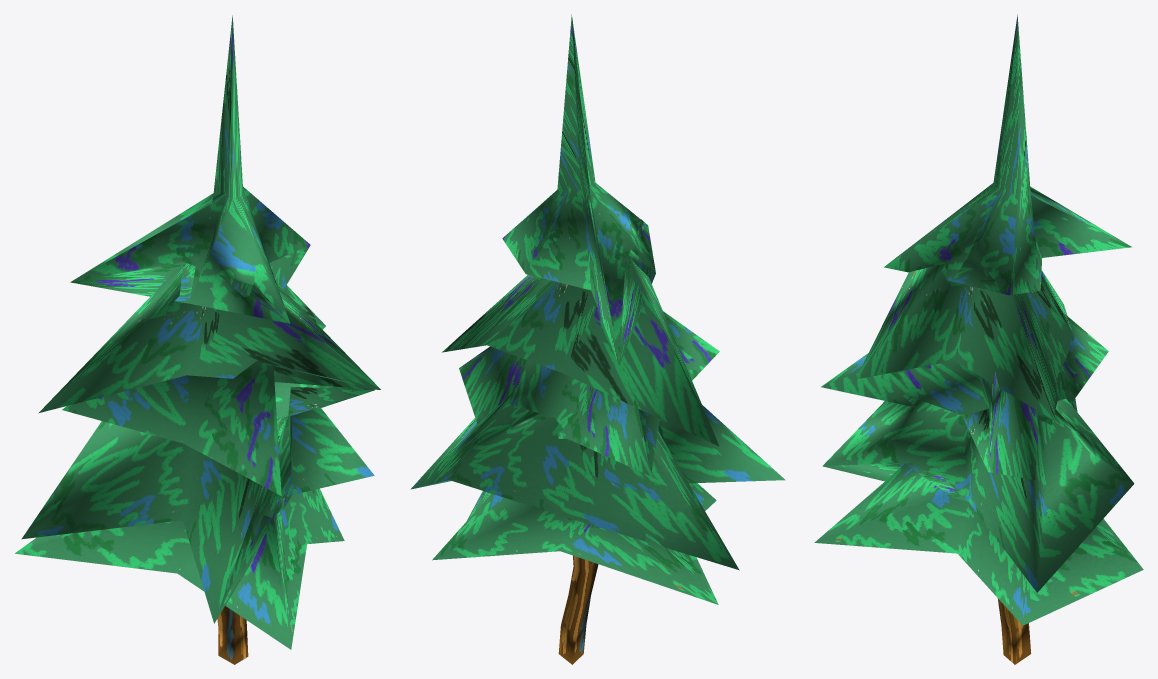
Rendered from tree.obj.
3 views of the same model, side by side, from view 1: azimuth 30°, elevation 25°; view 2: azimuth 150°, elevation 25°; view 3: azimuth 270°, elevation 25° (orthographic).
Parts seen in each view (by area): view 1: feuillageSapin, troncSapin; view 2: feuillageSapin, troncSapin; view 3: feuillageSapin, troncSapin.
Part boxes in pixels (left/top/right/bottom): feuillageSapin: left=15, top=15, right=380, bottom=649; troncSapin: left=217, top=606, right=248, bottom=664; feuillageSapin: left=410, top=14, right=785, bottom=604; troncSapin: left=558, top=555, right=598, bottom=664; feuillageSapin: left=814, top=14, right=1143, bottom=625; troncSapin: left=997, top=598, right=1031, bottom=664.
Bounding box in the file's own units: 123 × 222 × 103.
2 materials, 2 textured.
